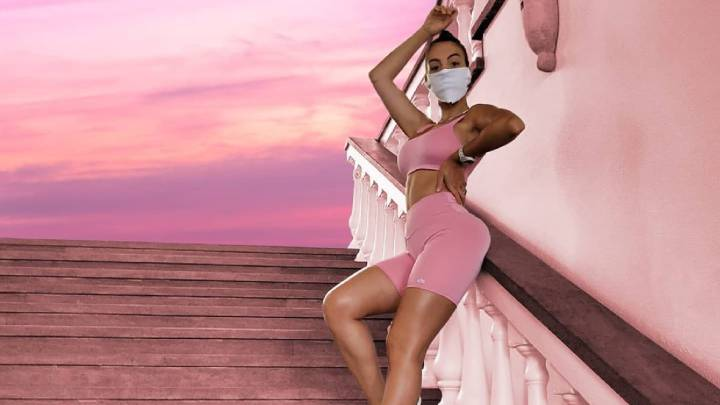with_mask: (416, 29, 482, 108)
